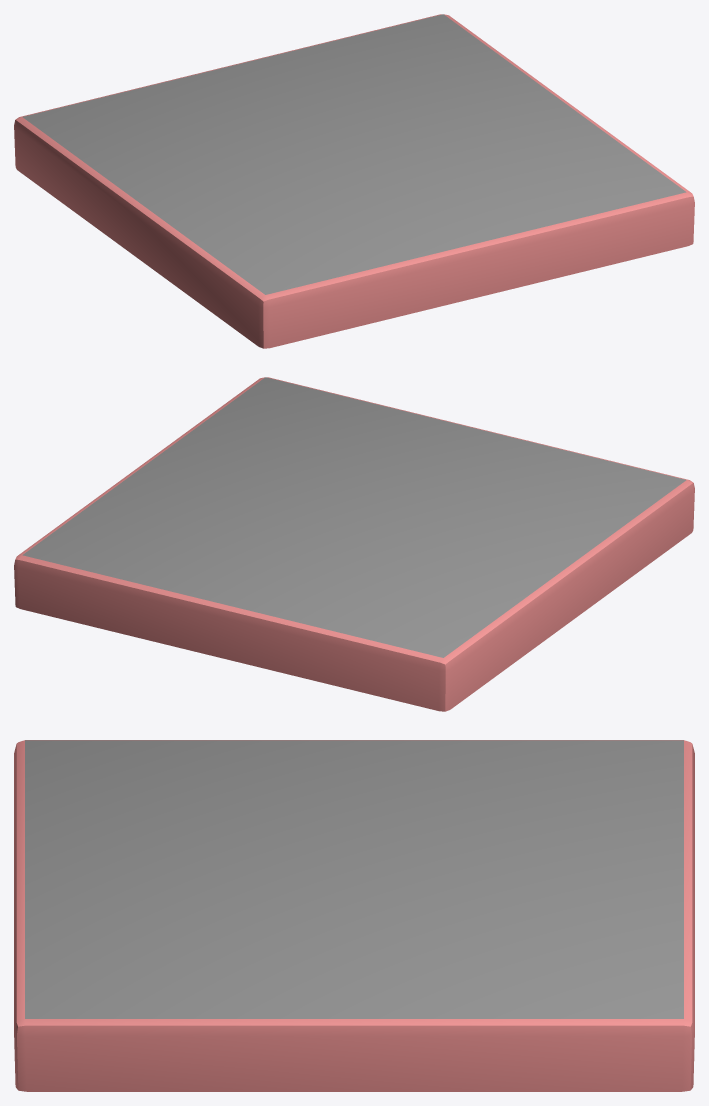
File: Table_TopSquare.fbx
3 views of the same model, one above another, from view 1: azimuth 30°, elevation 25°; view 2: azimuth 150°, elevation 25°; view 3: azimuth 270°, elevation 25° (orthographic). The views are drawn at different scales.
Parts seen in each view (by area): view 1: SM_Tables01_Top_Square; view 2: SM_Tables01_Top_Square; view 3: SM_Tables01_Top_Square.
Boxes of the visible parts, box(x1,y1,x2,y2) form: SM_Tables01_Top_Square: box(14, 14, 694, 348); SM_Tables01_Top_Square: box(14, 377, 694, 711); SM_Tables01_Top_Square: box(14, 740, 694, 1091).
Size of the model in its own units: 120 by 13.39 by 120.
